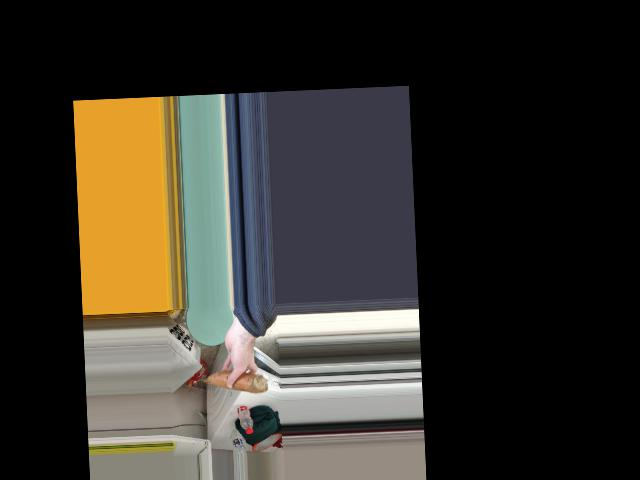sweet_potato: (204, 371, 268, 390)
